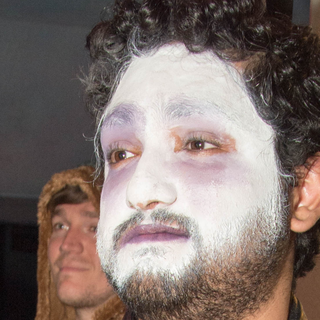eye: (178, 131, 224, 155), (100, 145, 145, 166), (52, 221, 69, 232)
